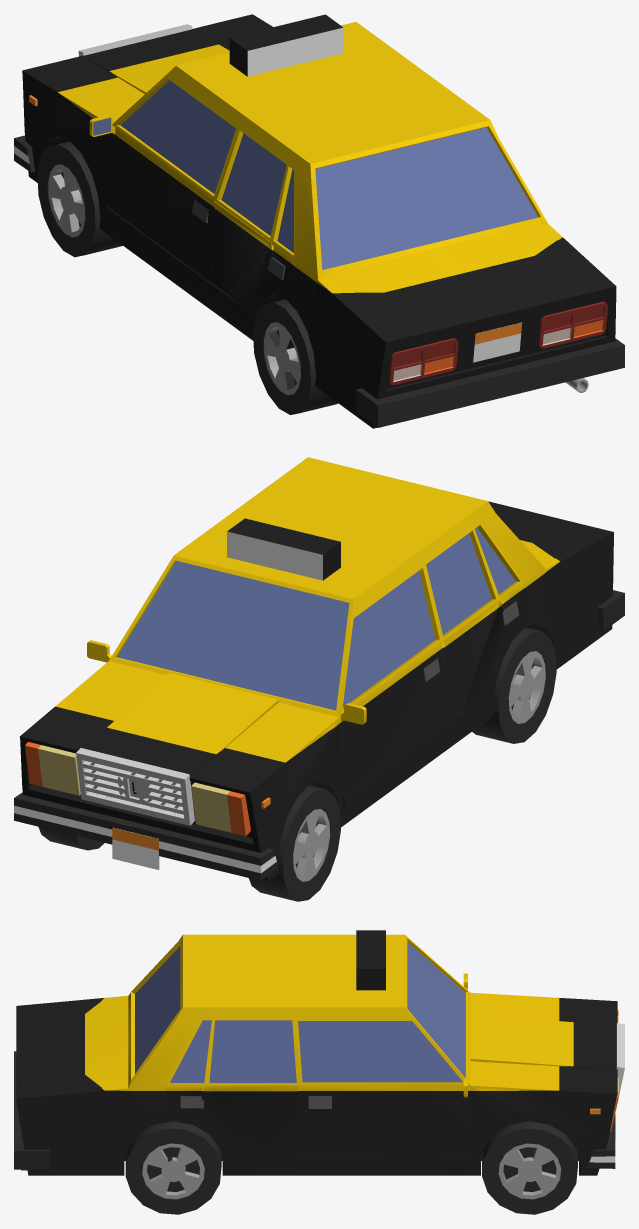
File: lada-taxi.glb
3 renders of one model, top to bottom at view 1: azimuth 30°, elevation 25°; view 2: azimuth 150°, elevation 25°; view 3: azimuth 270°, elevation 25°, orthographic. The views are drawn at different scales.
Parts seen in each view (by area): view 1: body, wheel_RL, wheel_FL; view 2: body, wheel_FL, wheel_RL, wheel_FR; view 3: body, wheel_RR, wheel_FR.
Part boxes in pixels (<box>): body: <box>14,14,624,428</box>; wheel_RL: <box>253,299,338,414</box>; wheel_FL: <box>37,141,122,257</box>; body: <box>14,457,624,880</box>; wheel_FL: <box>249,785,340,901</box>; wheel_RL: <box>472,627,556,743</box>; wheel_FR: <box>38,826,104,850</box>; body: <box>14,930,624,1175</box>; wheel_RR: <box>125,1121,221,1214</box>; wheel_FR: <box>482,1121,577,1214</box>.
Size of the model in its own units: 1.79 by 1.61 by 4.14.
Materials: 1 (1 with a texture image).
